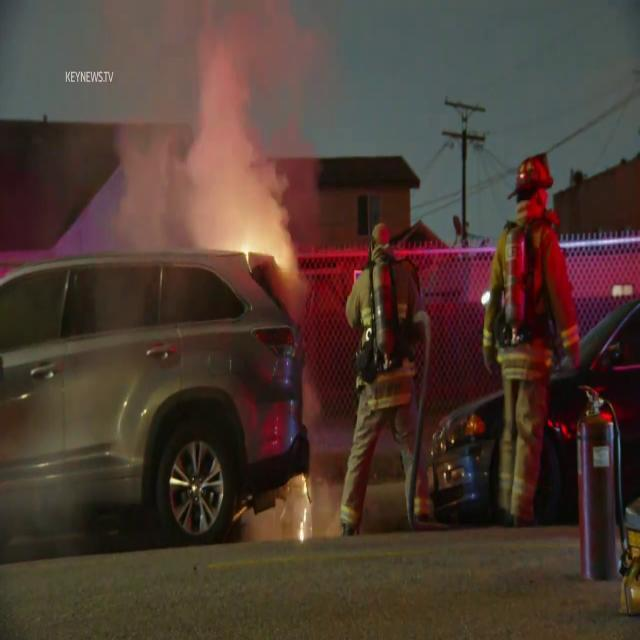Smoke: (97, 8, 313, 258)
